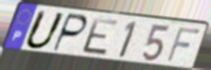1: (118, 20, 139, 59)
5: (141, 23, 173, 63)
E: (80, 17, 121, 58)
F: (164, 26, 203, 64)
P: (50, 13, 89, 54)
U: (22, 9, 68, 51)
